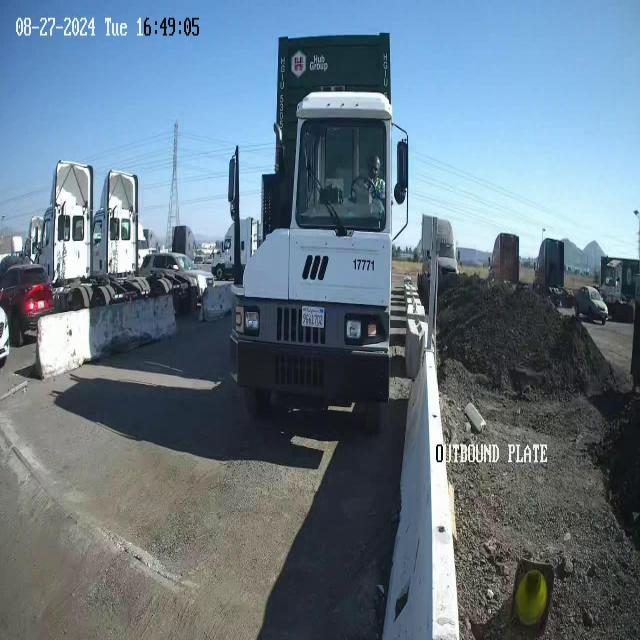TRUCK_OUT: (228, 31, 410, 412)
